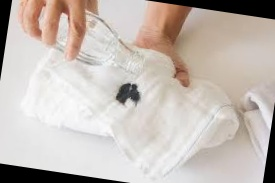ink: (116, 82, 143, 107)
